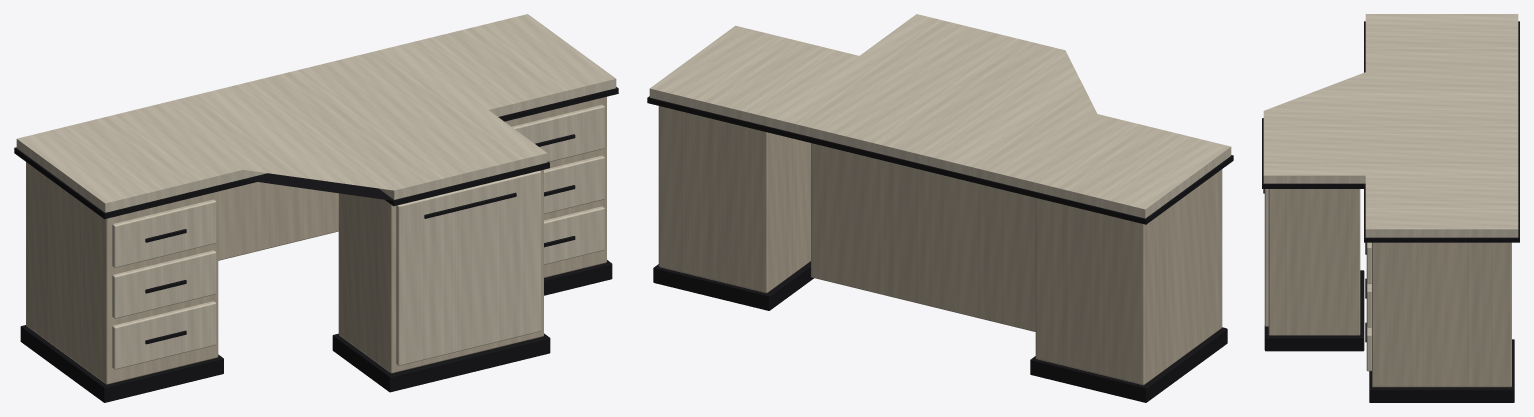
Rendered from kompyuter-stoli-pro.glb.
3 views of the same model, side by side, from view 1: azimuth 30°, elevation 25°; view 2: azimuth 150°, elevation 25°; view 3: azimuth 270°, elevation 25° (orthographic). The views are drawn at different scales.
Visible parts, largest first — view 1: furniture; view 2: furniture; view 3: furniture.
Part boxes in pixels (bbox=[...]): furniture: bbox=[14, 14, 618, 402]; furniture: bbox=[647, 14, 1233, 402]; furniture: bbox=[1262, 14, 1519, 402].
Size of the model in its own units: 2.01 by 0.755 by 1.01.
3 materials, 2 textured.
